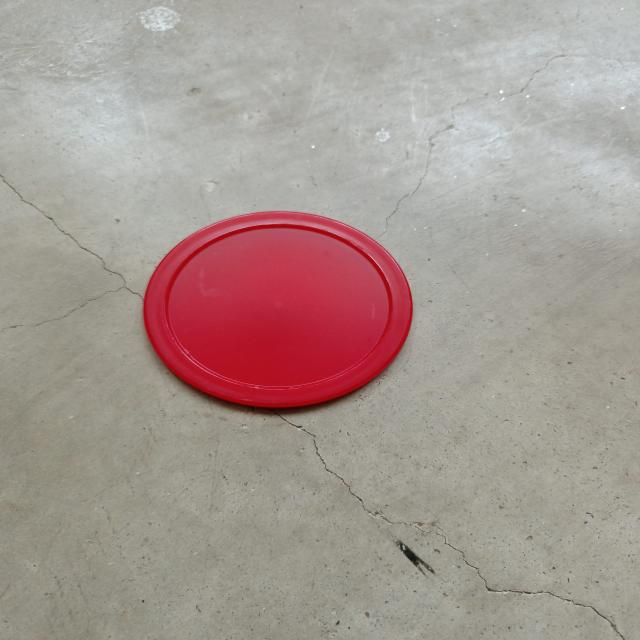chip: (140, 210, 415, 404)
